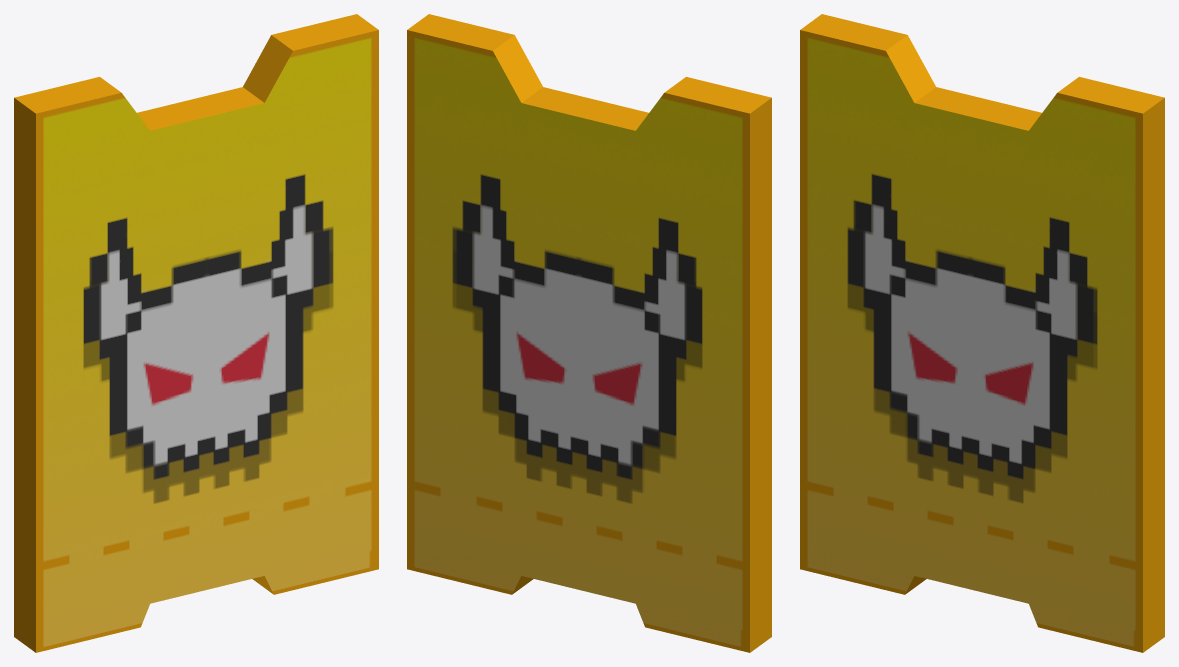
File: Boss_Ticket_Update.fbx
3 renders of one model, left to right at view 1: azimuth 30°, elevation 25°; view 2: azimuth 150°, elevation 25°; view 3: azimuth 330°, elevation 25°, orthographic.
Parts seen in each view (by area): view 1: pCube1; view 2: pCube1; view 3: pCube1.
Boxes of the visible parts, left/top/right/bottom form: pCube1: left=14, top=14, right=378, bottom=652; pCube1: left=407, top=14, right=771, bottom=652; pCube1: left=800, top=14, right=1164, bottom=652.
Size of the model in its own units: 9.05 by 13.6 by 1.
1 material, 1 textured.
